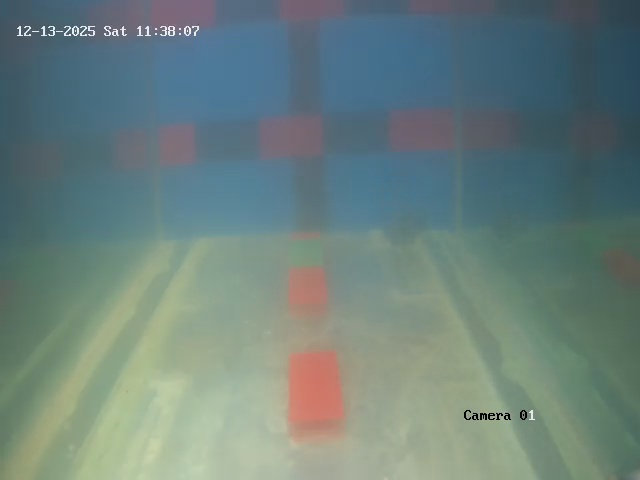fish: (380, 214, 427, 248)
